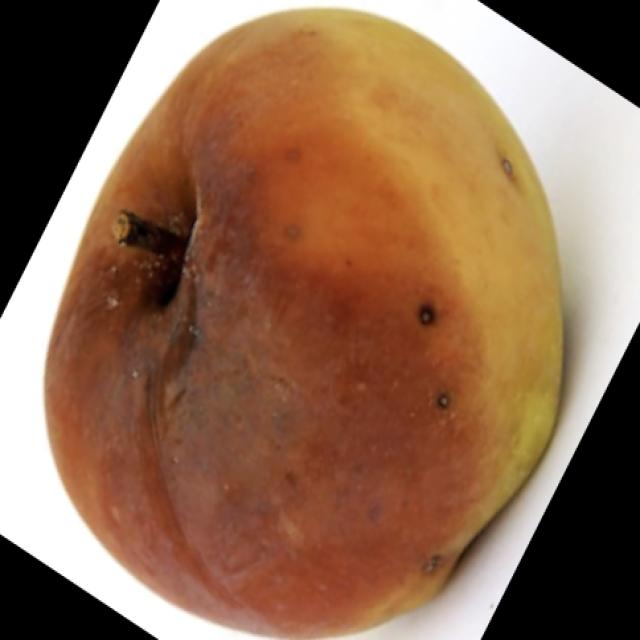Rotten: (42, 4, 570, 640)
